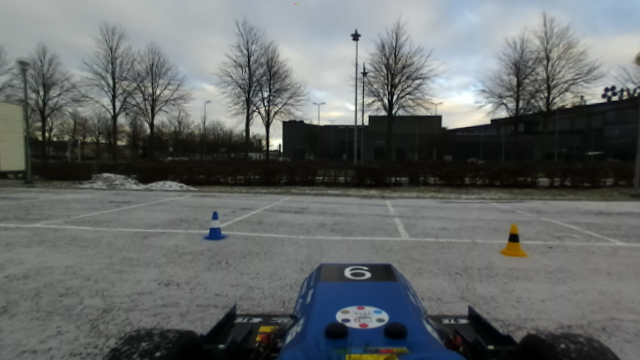blue: (202, 208, 228, 241)
yellow: (497, 221, 528, 258)
